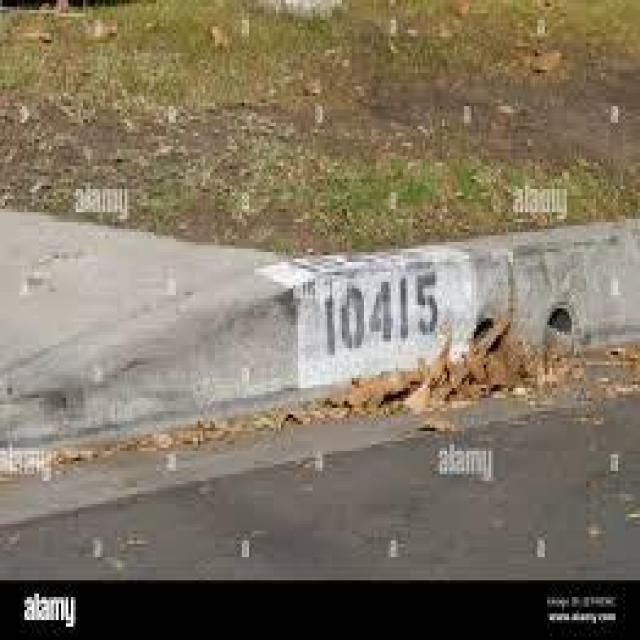bump: (55, 218, 640, 416)
